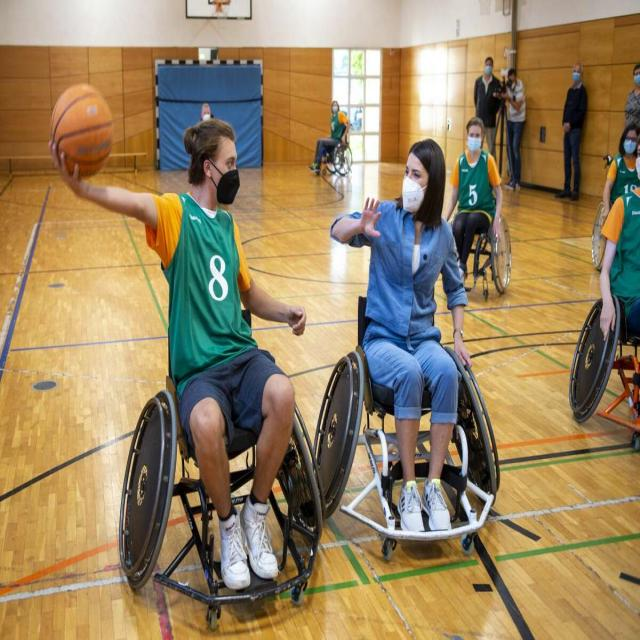wheelchairs: (107, 300, 329, 626), (308, 272, 523, 589), (564, 270, 640, 468), (440, 138, 524, 302), (294, 90, 370, 190), (584, 152, 628, 282)
